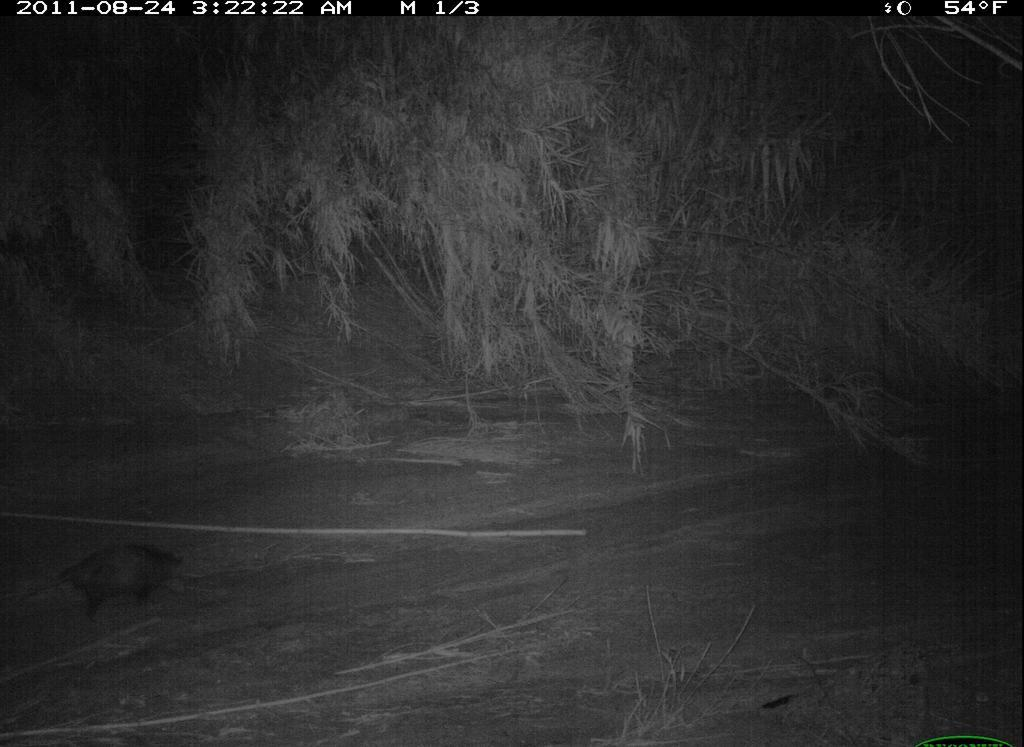opossum: (9, 530, 230, 626)
